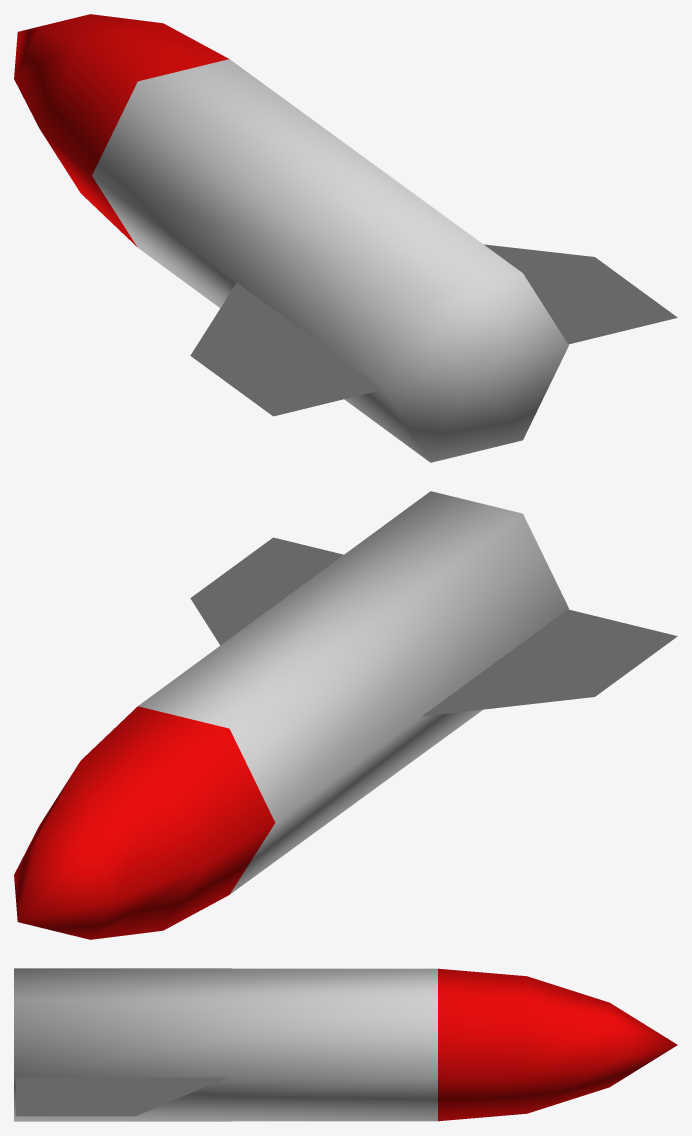
The model's file is missile.fbx.
The picture shows the model from 3 angles, top to bottom: view 1: azimuth 30°, elevation 25°; view 2: azimuth 150°, elevation 25°; view 3: azimuth 270°, elevation 25°; orthographic projection. The views are drawn at different scales.
Parts seen in each view (by area): view 1: Missile; view 2: Missile; view 3: Missile.
Boxes of the visible parts, <box> form: Missile: <box>14,14,677,462</box>; Missile: <box>14,491,677,939</box>; Missile: <box>14,968,677,1121</box>.
Size of the model in its own units: 110 by 43.24 by 215.
